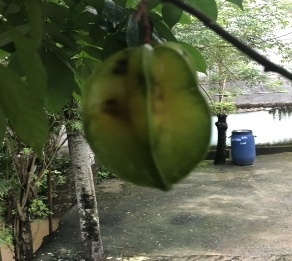Khe: (76, 39, 222, 197)
